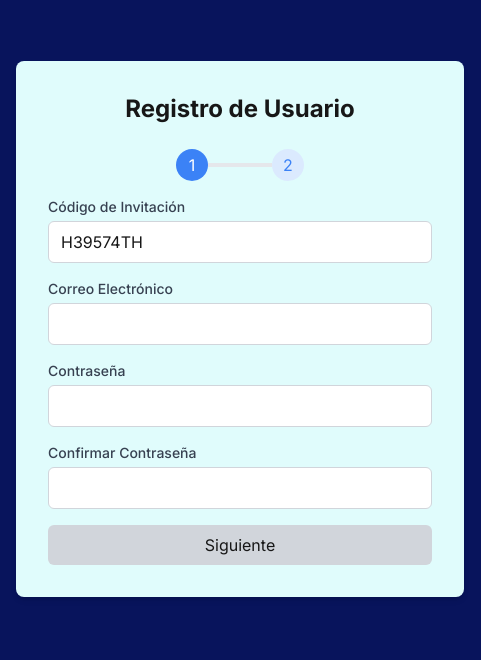
Test: RegisterFormUser › rechaza contraseñas que no coinciden
The image size is (481, 660).
Type "persona@correo.test" into the field labelled "Correo Electrónico".
click(240, 324); type("persona@correo.test")  # box left=48, top=303, right=432, bottom=345
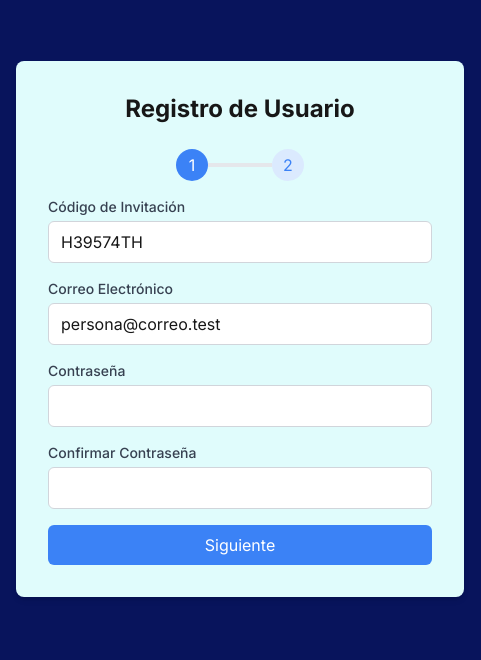
Type "clave-segura" into the password field labelled "Contraseña".
click(240, 406); type("clave-segura")  # box left=48, top=385, right=432, bottom=427
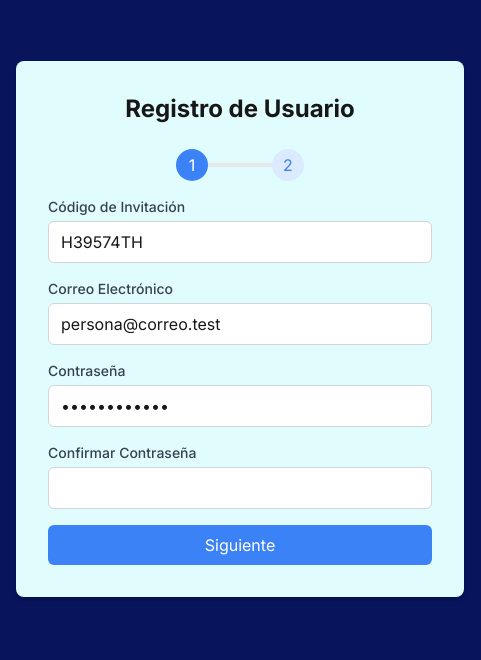
Type "otra-clave" into the password field labelled "Confirmar Contraseña".
click(240, 488); type("otra-clave")  # box left=48, top=467, right=432, bottom=509
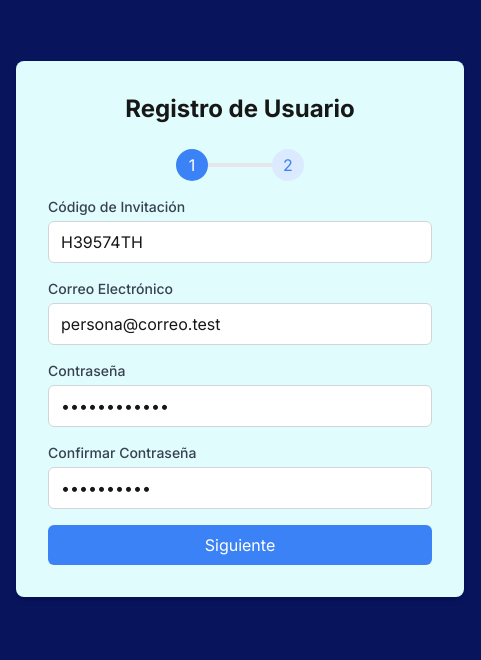
Click the button "Siguiente".
click(240, 545)  # box left=48, top=525, right=432, bottom=565
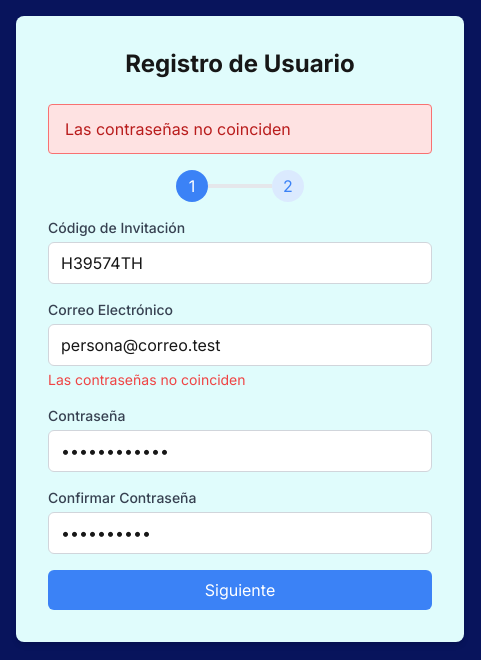
Result: the 1st text "Las contraseñas no coinciden" is shown at left=48, top=104, right=432, bottom=154
